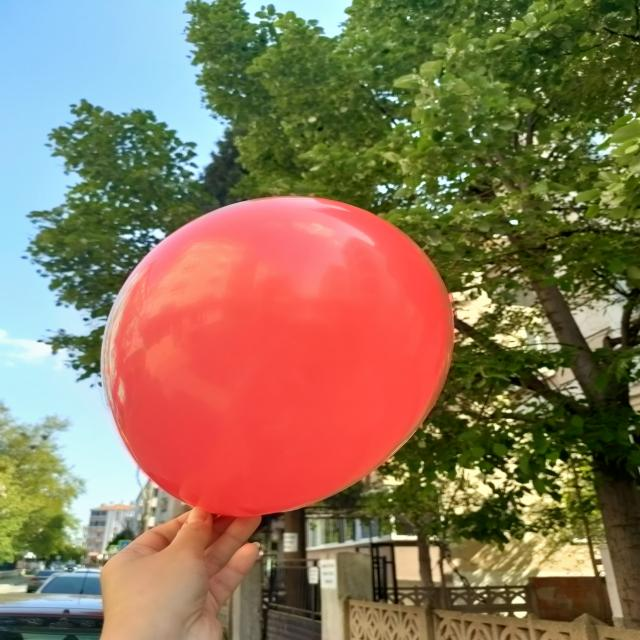red: (106, 195, 454, 513)
